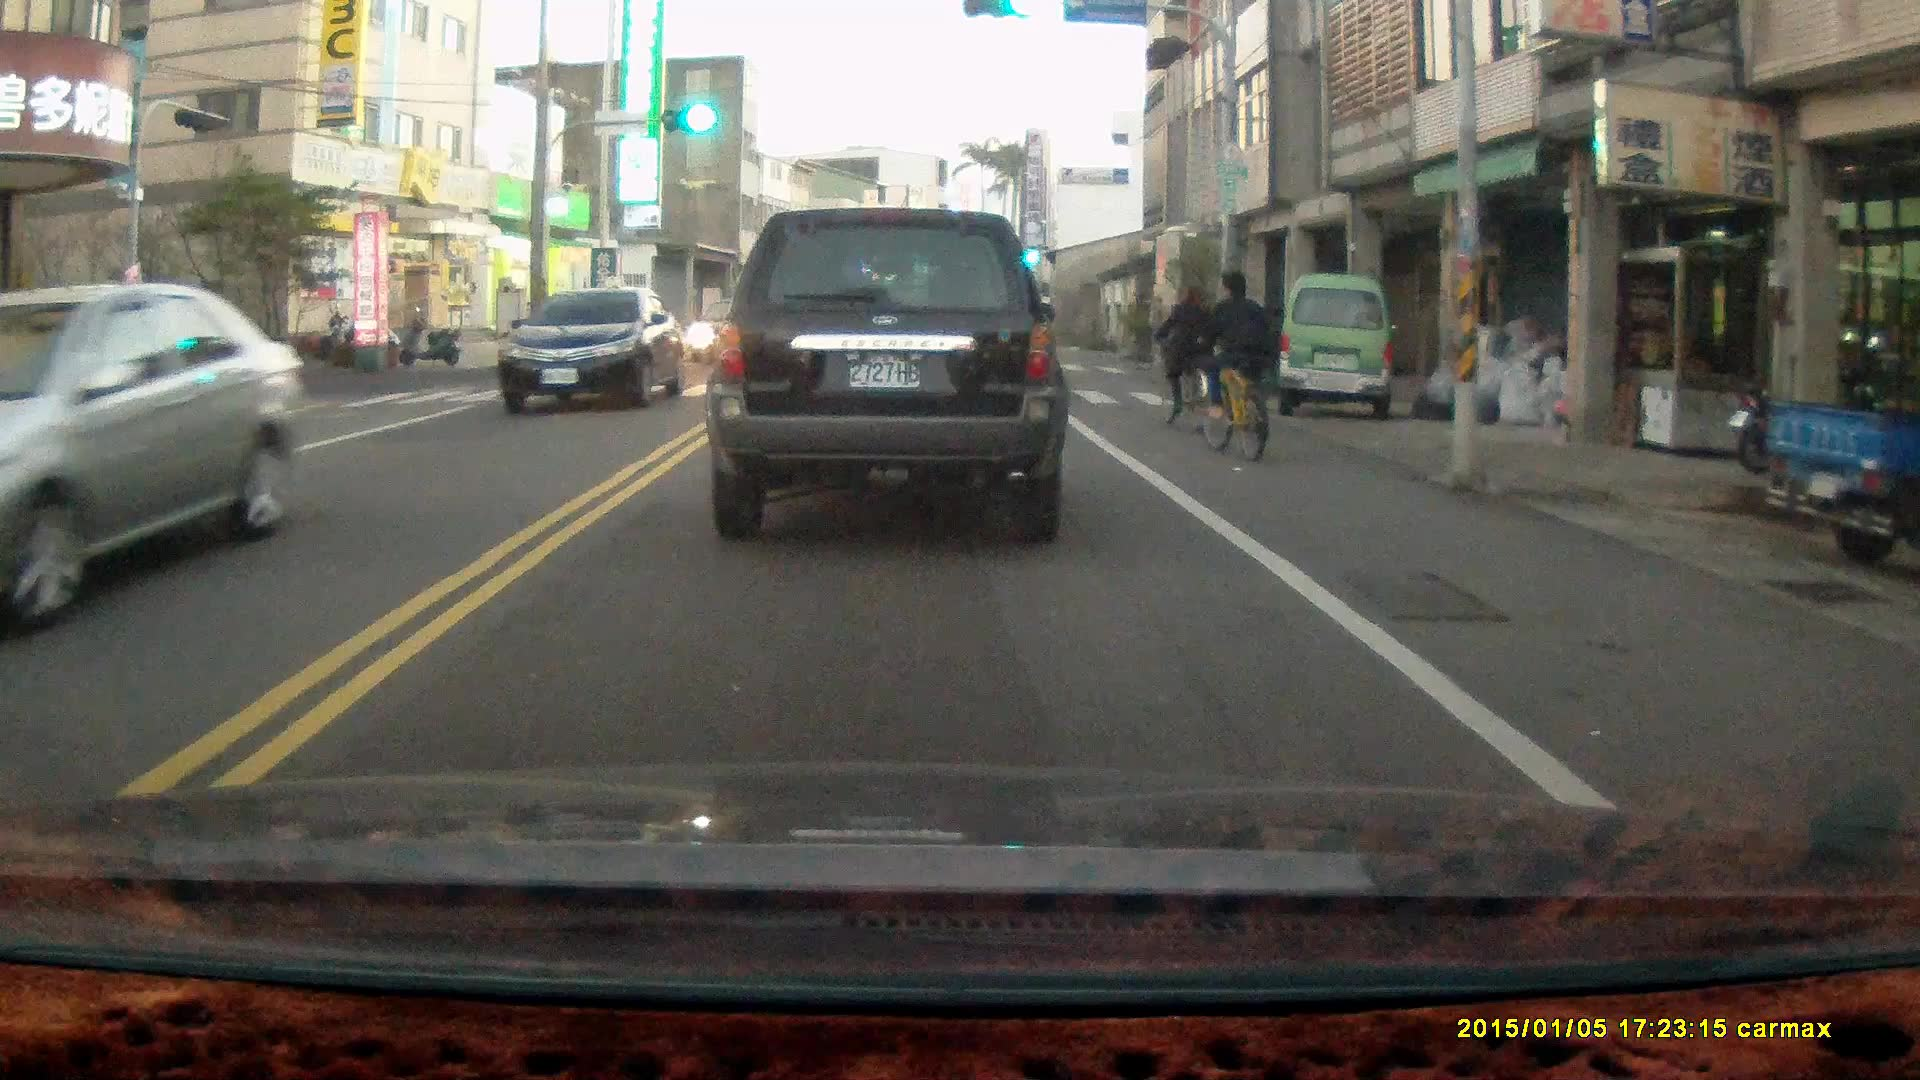rider: (1197, 267, 1272, 462), (1154, 275, 1223, 437)
vehicle: (713, 206, 1070, 540), (1, 281, 308, 627), (499, 283, 689, 418), (1277, 274, 1397, 426)
